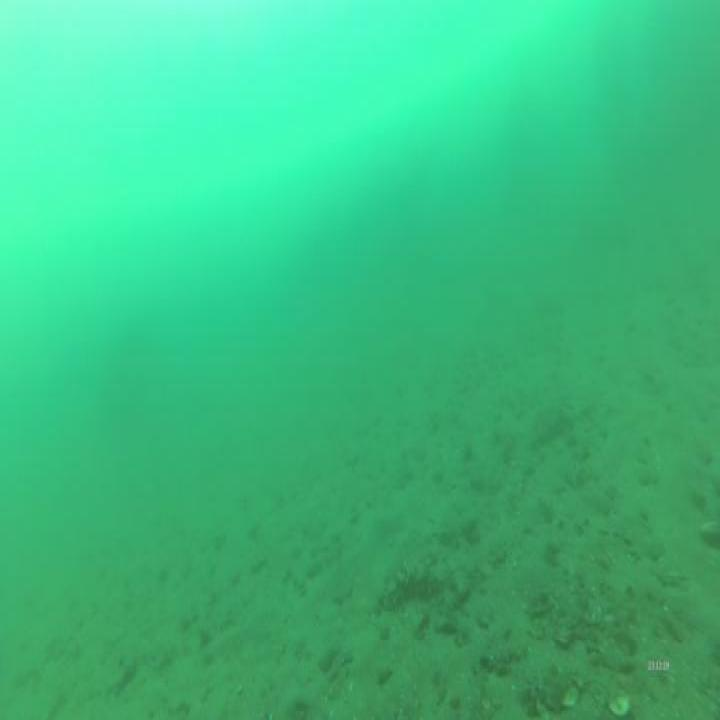holothurian: (379, 553, 447, 611)
